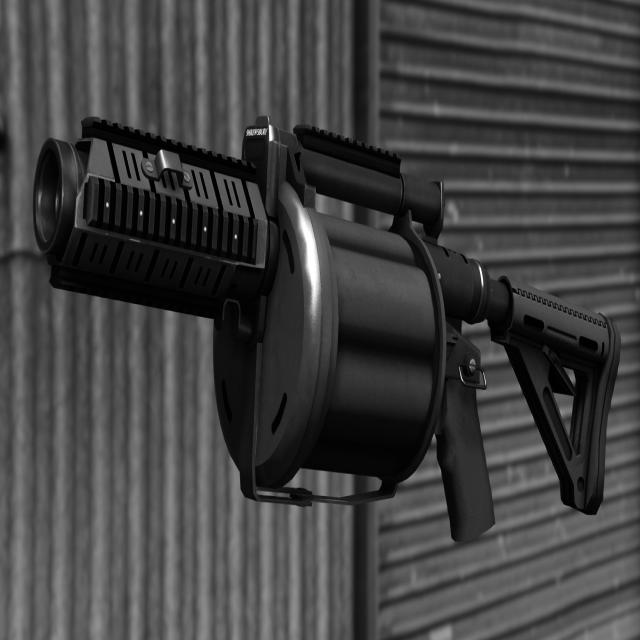Lancher: (11, 66, 640, 612)
